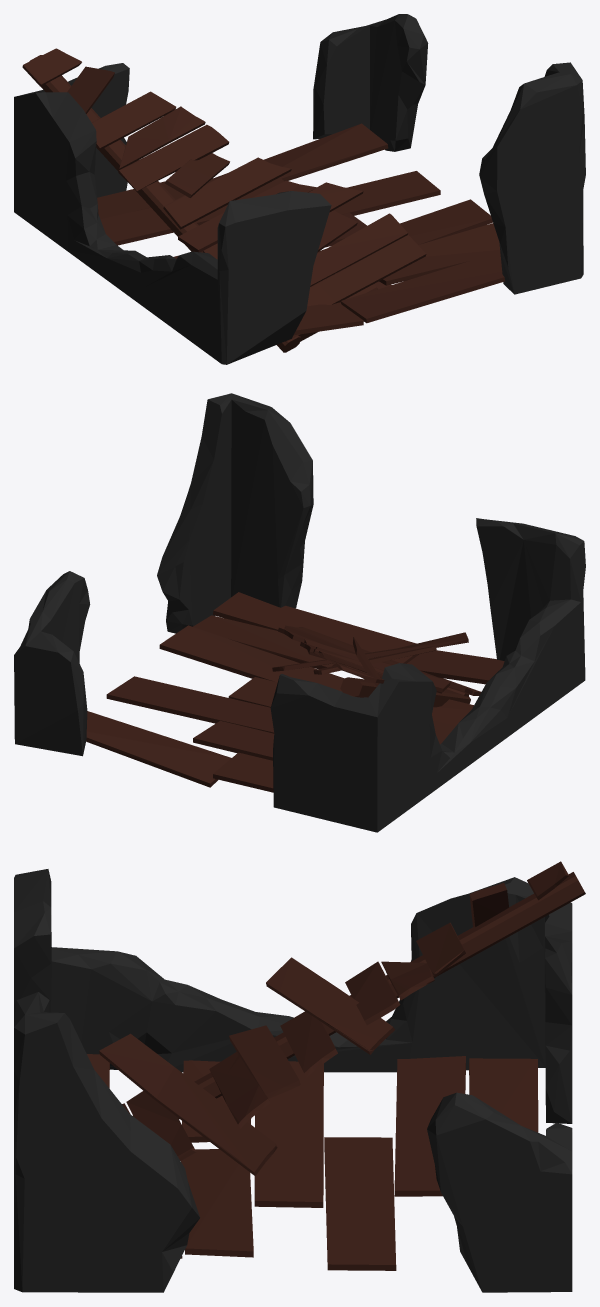
The model's file is civilian_house_ruin_b.FBX.
3 views of the same model, one above another, from view 1: azimuth 30°, elevation 25°; view 2: azimuth 150°, elevation 25°; view 3: azimuth 270°, elevation 25° (orthographic). The views are drawn at different scales.
Parts seen in each view (by area): view 1: civilian_house_ruin_b; view 2: civilian_house_ruin_b; view 3: civilian_house_ruin_b.
Part boxes in pixels (bbox=[...]): civilian_house_ruin_b: bbox=[14, 14, 585, 364]; civilian_house_ruin_b: bbox=[14, 393, 585, 832]; civilian_house_ruin_b: bbox=[14, 861, 585, 1292].
Size of the model in its own units: 601 by 371 by 615.
